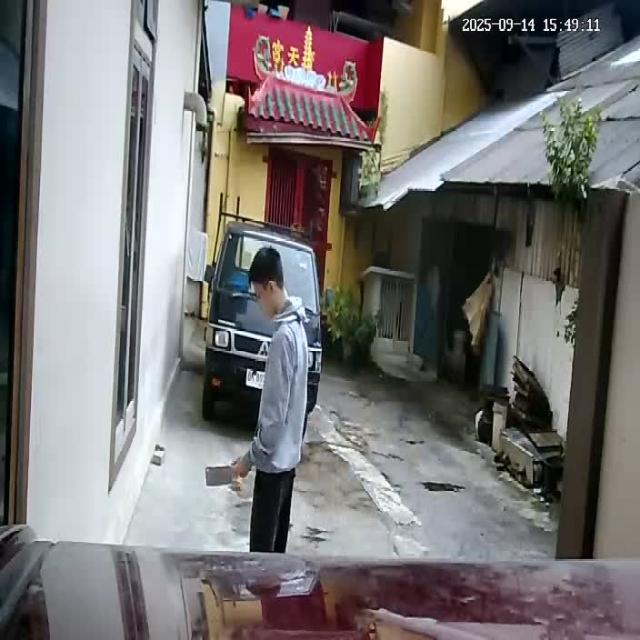senjata_tajam: (203, 464, 234, 486)
